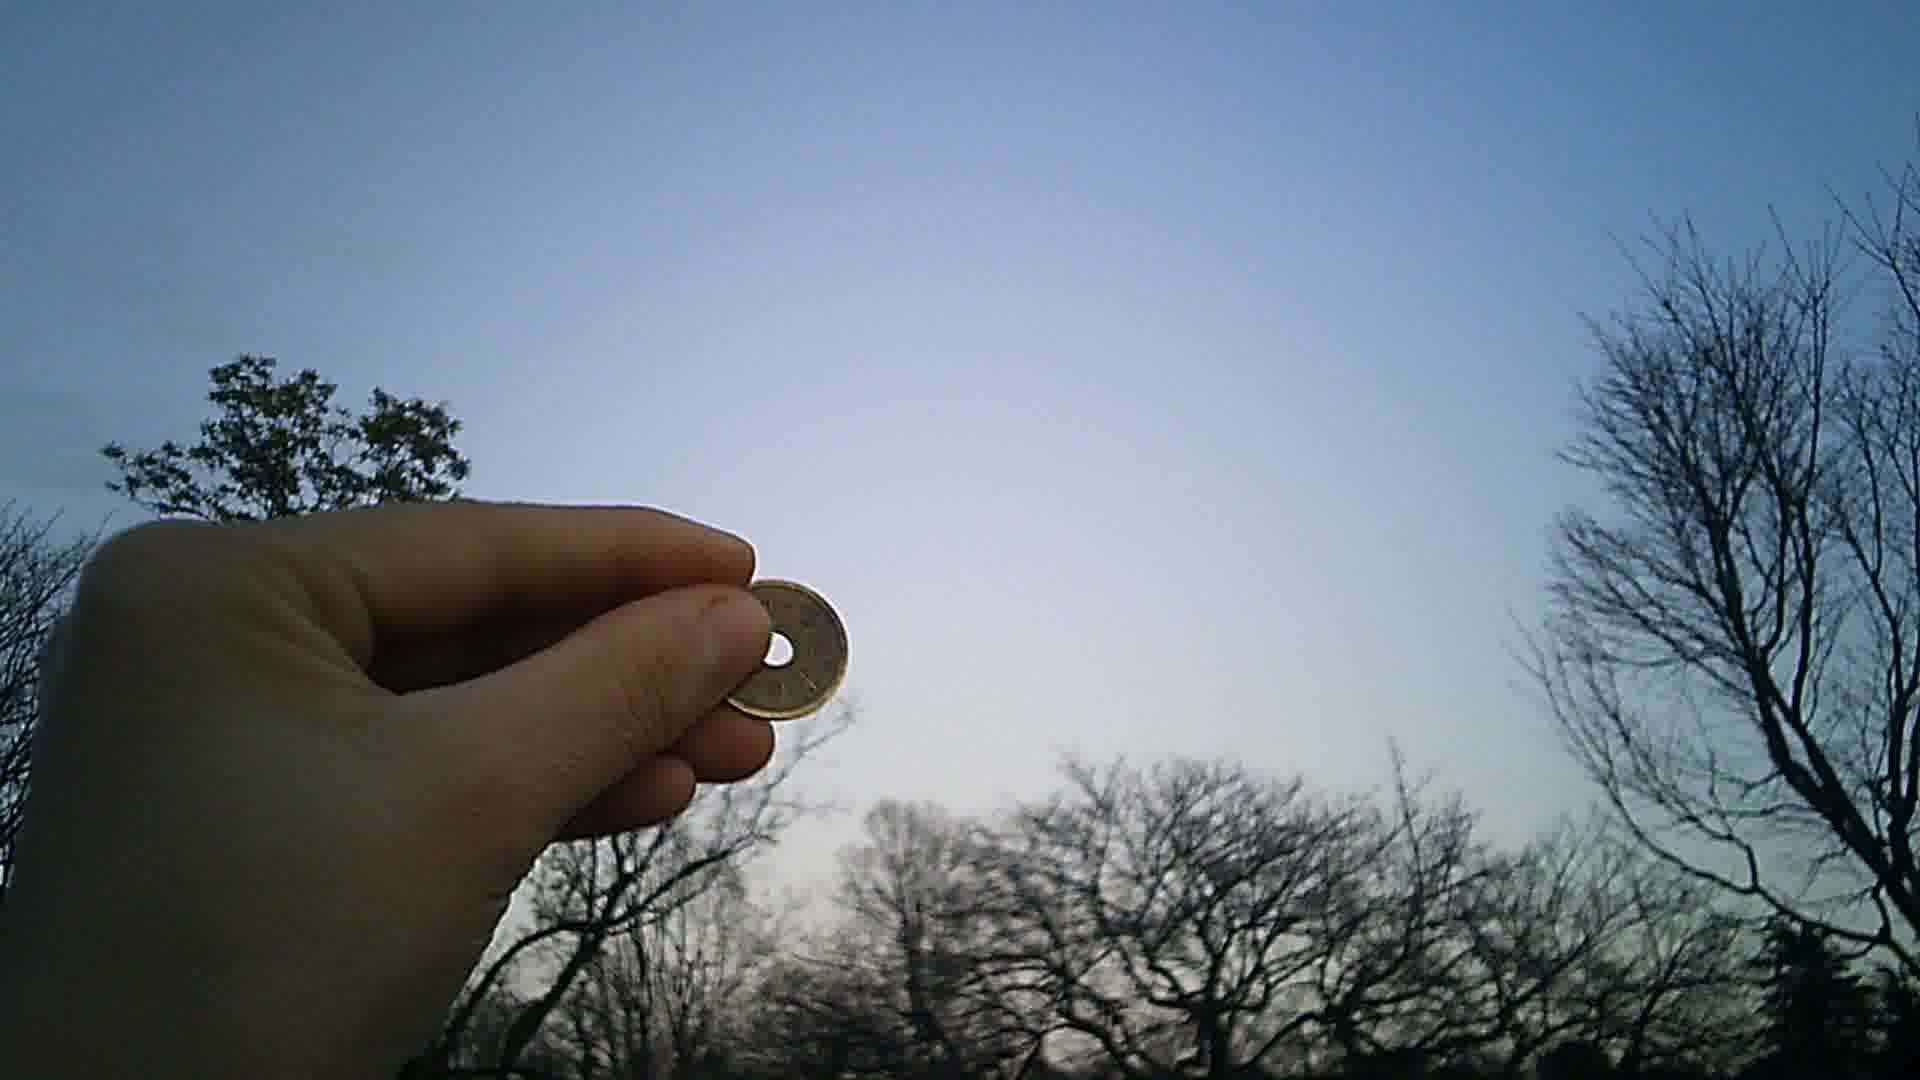5 Yen: (699, 560, 855, 737)
